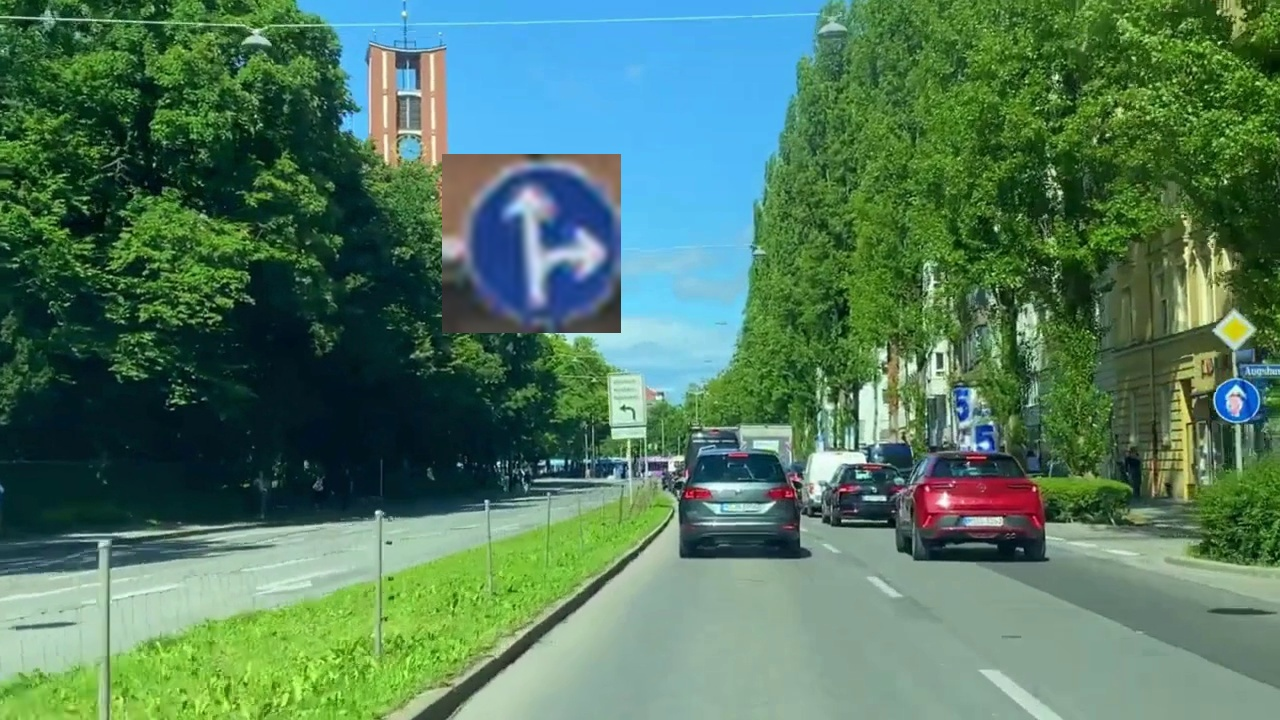Straight/right: (442, 154, 621, 333)
